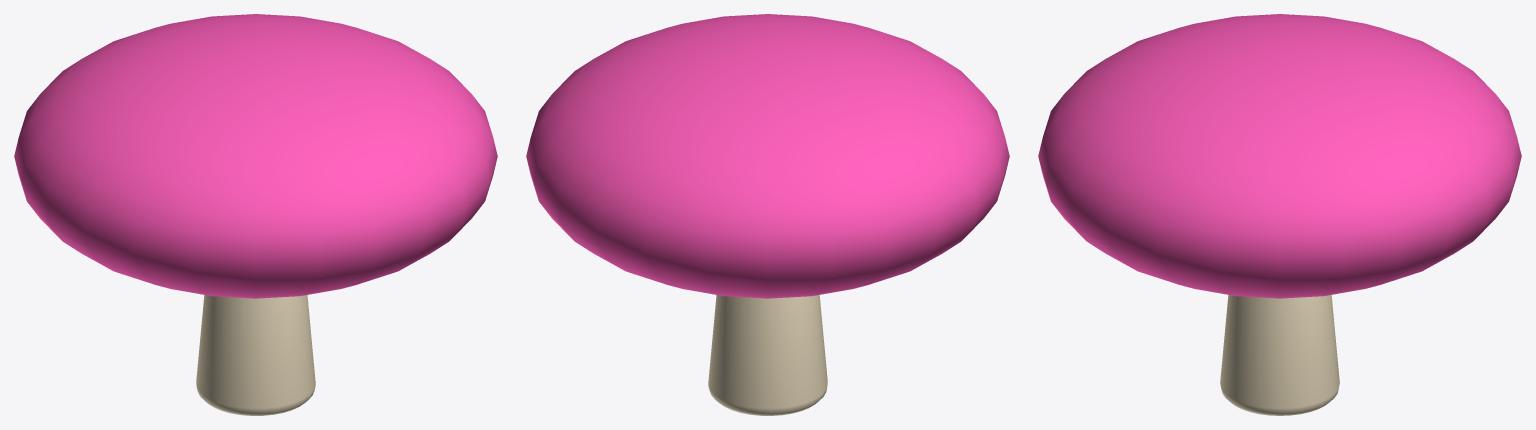
Rendered from mushroom.glb.
The picture shows the model from 3 angles, left to right: view 1: azimuth 30°, elevation 25°; view 2: azimuth 150°, elevation 25°; view 3: azimuth 270°, elevation 25°; orthographic projection.
Parts seen in each view (by area): view 1: Stalk; view 2: Stalk; view 3: Stalk.
Boxes of the visible parts, x1,y1,x2,y2 form: Stalk: (14,14,497,415); Stalk: (526,14,1009,415); Stalk: (1038,14,1521,415).
Size of the model in its own units: 2.3 by 1.77 by 2.3.
